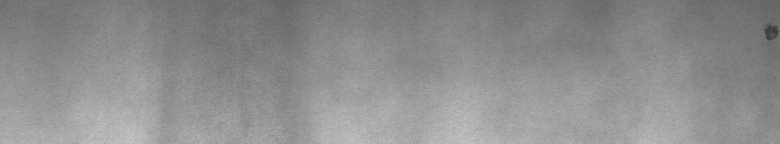fi: (760, 16, 776, 48)
